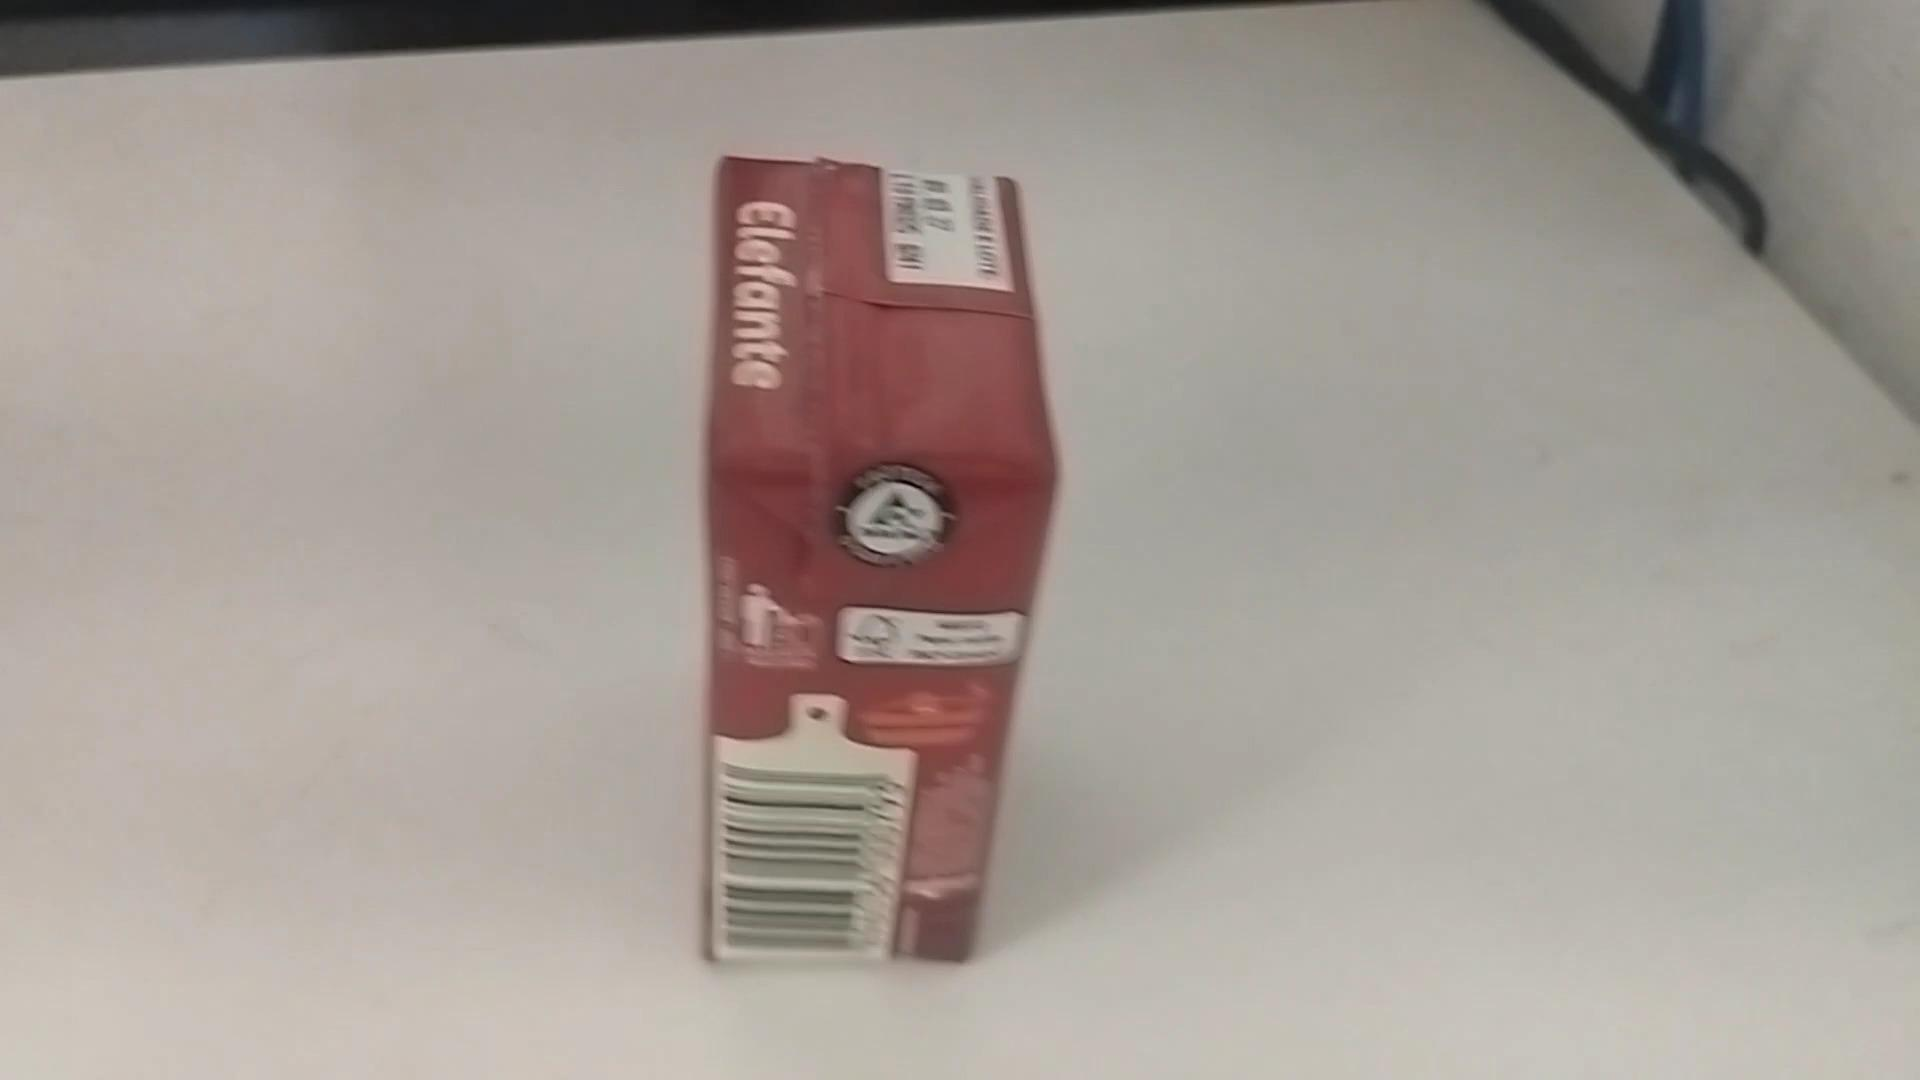tomate: (700, 160, 1060, 985)
